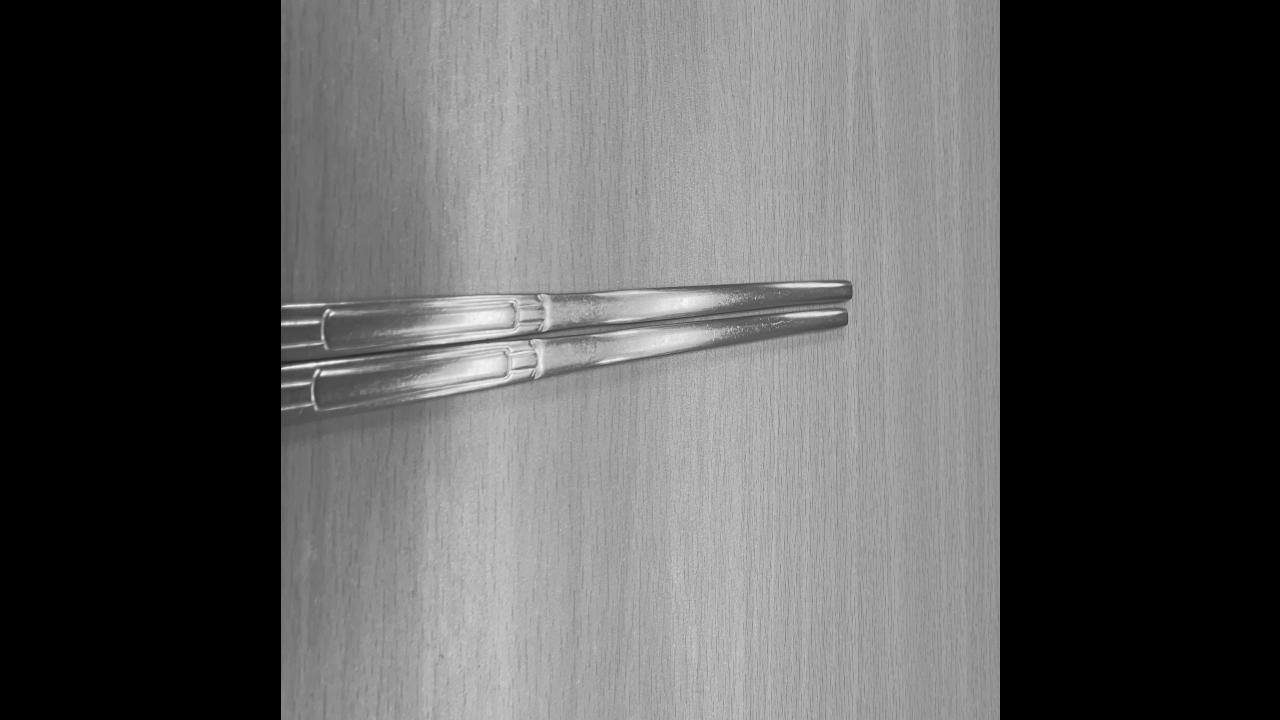chopstick: (280, 283, 850, 425)
